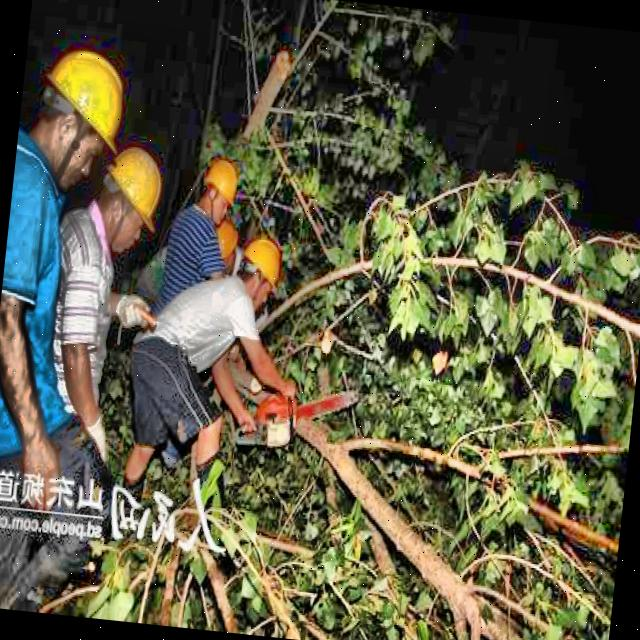helmet: (25, 42, 137, 200), (87, 134, 170, 254), (232, 228, 286, 311), (194, 152, 243, 227), (208, 219, 245, 282)
